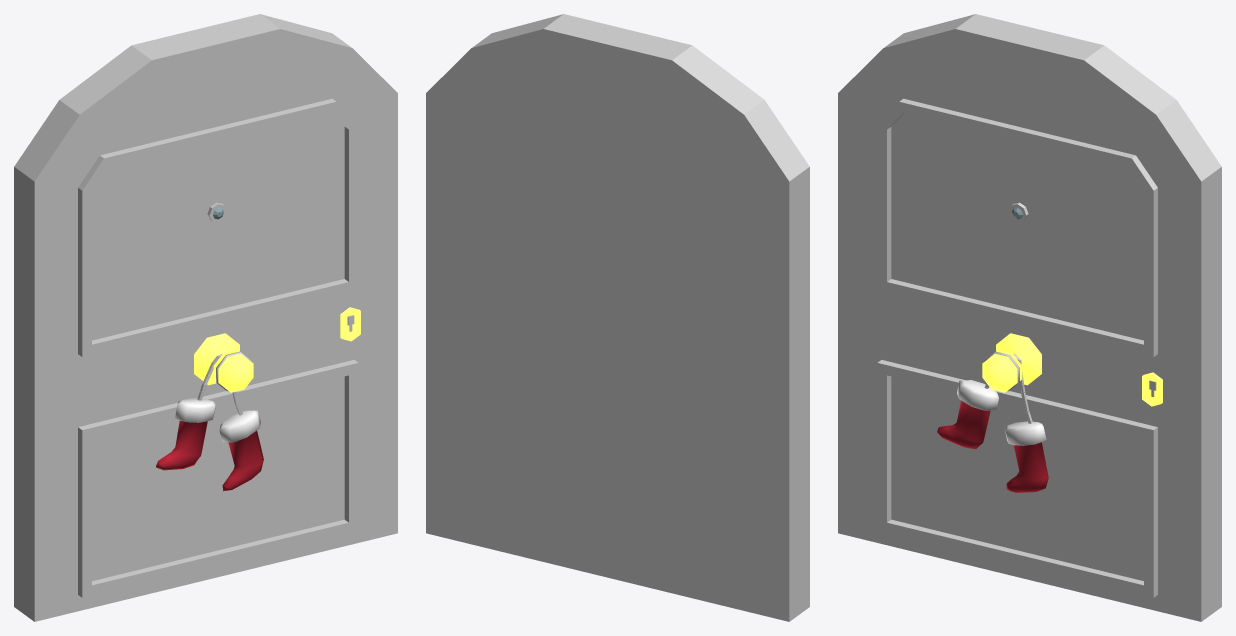
File: Door_Art.fbx
3 views of the same model, side by side, from view 1: azimuth 30°, elevation 25°; view 2: azimuth 150°, elevation 25°; view 3: azimuth 330°, elevation 25° (orthographic).
Visible parts, largest first — view 1: Door_Art, SockXmas_Art__1_.001; view 2: Door_Art; view 3: Door_Art, SockXmas_Art__1_.001.
Boxes of the visible parts, x1=… form: Door_Art: x1=14, y1=14, x2=397, y2=621; SockXmas_Art__1_.001: x1=156, y1=354, x2=263, y2=491; Door_Art: x1=426, y1=14, x2=809, y2=621; Door_Art: x1=838, y1=14, x2=1221, y2=621; SockXmas_Art__1_.001: x1=937, y1=354, x2=1048, y2=492.
Bounding box in the file's own units: 4.33 × 6.08 × 0.9684.
